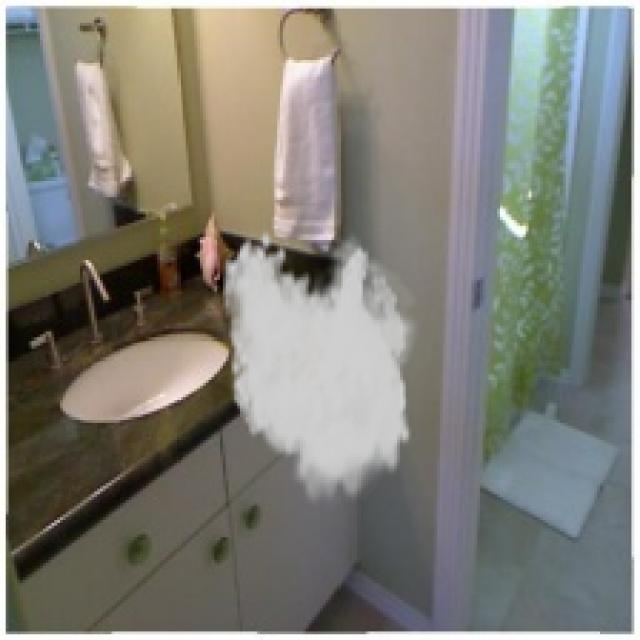smoke: (220, 228, 423, 512)
